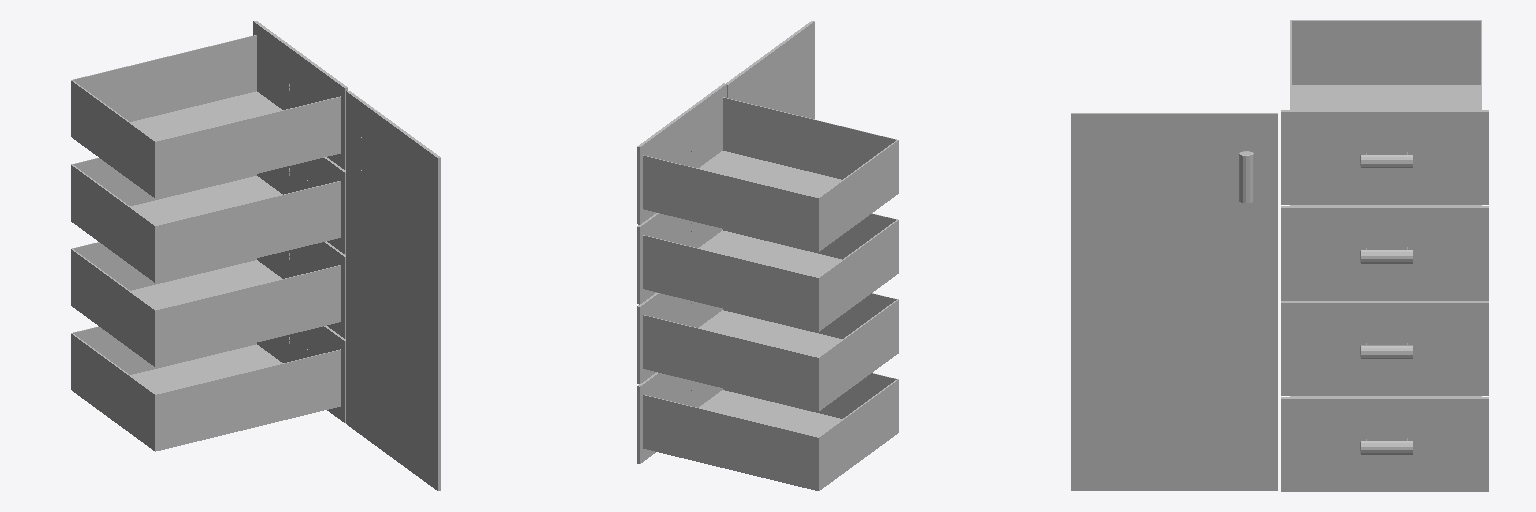
URDF robot description (my_urdf):
<?xml version='1.0' encoding='utf-8'?>
<robot name="my_urdf"><link name="base_link"><visual><origin xyz="0 0 0" rpy="0.0 0.0 0.0" /><material name="white"><color rgba="0.8 0.8 0.8 1" /></material><geometry><mesh filename="../meshes/cabinet.obj" scale="1 1 1" /></geometry></visual><collision><origin xyz="0 0 0" rpy="0.0 0.0 0.0" /><geometry><mesh filename="../meshes/cabinet.obj" scale="1 1 1" /></geometry></collision><inertial><mass value="1" /><inertia ixx="1e-4" ixy="0" ixz="0" iyy="1e-4" iyz="0" izz="1e-4" /></inertial></link><link name="drawer0"><visual><origin xyz="0 0 0" rpy="0 0 0" /><material name="white"><color rgba="0.8 0.8 0.8 1" /></material><geometry><mesh filename="../meshes/parts/drawer.obj" scale="1 1.98 0.98" /></geometry></visual><collision><origin xyz="0 0 0" rpy="0 0 0" /><geometry><mesh filename="../meshes/parts/drawer.obj" scale="1 1.98 0.98" /></geometry></collision><inertial><mass value="0.2" /><inertia ixx="1e-4" ixy="0" ixz="0" iyy="1e-4" iyz="0" izz="1e-4" /></inertial></link><joint name="drawer0_to_base_link" type="prismatic"><axis xyz="1 0 0" /><limit effort="5" lower="0" upper="0.4" velocity="2.283" /><origin xyz="0 0.5 0.75" rpy="0.0 0.0 0.0" /><parent link="base_link" /><child link="drawer0" /></joint><link name="drawer1"><visual><origin xyz="0 0 0" rpy="0 0 0" /><material name="white"><color rgba="0.8 0.8 0.8 1" /></material><geometry><mesh filename="../meshes/parts/drawer.obj" scale="1 1.98 0.98" /></geometry></visual><collision><origin xyz="0 0 0" rpy="0 0 0" /><geometry><mesh filename="../meshes/parts/drawer.obj" scale="1 1.98 0.98" /></geometry></collision><inertial><mass value="0.2" /><inertia ixx="1e-4" ixy="0" ixz="0" iyy="1e-4" iyz="0" izz="1e-4" /></inertial></link><joint name="drawer1_to_base_link" type="prismatic"><axis xyz="1 0 0" /><limit effort="5" lower="0" upper="0.4" velocity="2.283" /><origin xyz="0 0.5 0.5" rpy="0.0 0.0 0.0" /><parent link="base_link" /><child link="drawer1" /></joint><link name="drawer2"><visual><origin xyz="0 0 0" rpy="0 0 0" /><material name="white"><color rgba="0.8 0.8 0.8 1" /></material><geometry><mesh filename="../meshes/parts/drawer.obj" scale="1 1.98 0.98" /></geometry></visual><collision><origin xyz="0 0 0" rpy="0 0 0" /><geometry><mesh filename="../meshes/parts/drawer.obj" scale="1 1.98 0.98" /></geometry></collision><inertial><mass value="0.2" /><inertia ixx="1e-4" ixy="0" ixz="0" iyy="1e-4" iyz="0" izz="1e-4" /></inertial></link><joint name="drawer2_to_base_link" type="prismatic"><axis xyz="1 0 0" /><limit effort="5" lower="0" upper="0.4" velocity="2.283" /><origin xyz="0 0.5 0.25" rpy="0.0 0.0 0.0" /><parent link="base_link" /><child link="drawer2" /></joint><link name="drawer3"><visual><origin xyz="0 0 0" rpy="0 0 0" /><material name="white"><color rgba="0.8 0.8 0.8 1" /></material><geometry><mesh filename="../meshes/parts/drawer.obj" scale="1 1.98 0.98" /></geometry></visual><collision><origin xyz="0 0 0" rpy="0 0 0" /><geometry><mesh filename="../meshes/parts/drawer.obj" scale="1 1.98 0.98" /></geometry></collision><inertial><mass value="0.2" /><inertia ixx="1e-4" ixy="0" ixz="0" iyy="1e-4" iyz="0" izz="1e-4" /></inertial></link><joint name="drawer3_to_base_link" type="prismatic"><axis xyz="1 0 0" /><limit effort="5" lower="0" upper="0.4" velocity="2.283" /><origin xyz="0 0.5 0.0" rpy="0.0 0.0 0.0" /><parent link="base_link" /><child link="drawer3" /></joint><link name="doorL4"><visual><origin xyz="0 0 0" rpy="0 0 0" /><material name="white"><color rgba="0.8 0.8 0.8 1" /></material><geometry><mesh filename="../meshes/parts/doorL.obj" scale="1 1.99 3.99" /></geometry></visual><collision><origin xyz="0 0 0" rpy="0 0 0" /><geometry><mesh filename="../meshes/parts/doorL.obj" scale="1 1.99 3.99" /></geometry></collision><inertial><mass value="0.2" /><inertia ixx="1e-4" ixy="0" ixz="0" iyy="1e-4" iyz="0" izz="1e-4" /></inertial></link><joint name="doorL4_to_base_link" type="revolute"><axis xyz="0 0 1" /><limit effort="5" lower="-1.57" upper="0" velocity="2.283" /><origin xyz="0 0.0 0.0" rpy="0.0 0.0 0.0" /><parent link="base_link" /><child link="doorL4" /></joint><link name="handle5"><visual><origin xyz="0 0 0" rpy="0 0 0" /><material name="white"><color rgba="0.8 0.8 0.8 1" /></material><geometry><mesh filename="../meshes/parts/handle.obj" scale="1 1 1" /></geometry></visual><collision><origin xyz="0 0 0" rpy="0 0 0" /><geometry><mesh filename="../meshes/parts/handle.obj" scale="1 1 1" /></geometry></collision><inertial><mass value="0.2" /><inertia ixx="1e-4" ixy="0" ixz="0" iyy="1e-4" iyz="0" izz="1e-4" /></inertial></link><joint name="handle5_to_drawer0" type="fixed"><axis xyz="0 0 1" /><limit effort="5" lower="-1.57" upper="0" velocity="2.283" /><origin xyz="0 0.25 0.125" rpy="1.5707963267948963 0.0 0.0" /><parent link="drawer0" /><child link="handle5" /></joint><link name="handle6"><visual><origin xyz="0 0 0" rpy="0 0 0" /><material name="white"><color rgba="0.8 0.8 0.8 1" /></material><geometry><mesh filename="../meshes/parts/handle.obj" scale="1 1 1" /></geometry></visual><collision><origin xyz="0 0 0" rpy="0 0 0" /><geometry><mesh filename="../meshes/parts/handle.obj" scale="1 1 1" /></geometry></collision><inertial><mass value="0.2" /><inertia ixx="1e-4" ixy="0" ixz="0" iyy="1e-4" iyz="0" izz="1e-4" /></inertial></link><joint name="handle6_to_drawer1" type="fixed"><axis xyz="0 0 1" /><limit effort="5" lower="-1.57" upper="0" velocity="2.283" /><origin xyz="0 0.25 0.125" rpy="1.5707963267948963 0.0 0.0" /><parent link="drawer1" /><child link="handle6" /></joint><link name="handle7"><visual><origin xyz="0 0 0" rpy="0 0 0" /><material name="white"><color rgba="0.8 0.8 0.8 1" /></material><geometry><mesh filename="../meshes/parts/handle.obj" scale="1 1 1" /></geometry></visual><collision><origin xyz="0 0 0" rpy="0 0 0" /><geometry><mesh filename="../meshes/parts/handle.obj" scale="1 1 1" /></geometry></collision><inertial><mass value="0.2" /><inertia ixx="1e-4" ixy="0" ixz="0" iyy="1e-4" iyz="0" izz="1e-4" /></inertial></link><joint name="handle7_to_drawer2" type="fixed"><axis xyz="0 0 1" /><limit effort="5" lower="-1.57" upper="0" velocity="2.283" /><origin xyz="0 0.25 0.125" rpy="1.5707963267948963 0.0 0.0" /><parent link="drawer2" /><child link="handle7" /></joint><link name="handle8"><visual><origin xyz="0 0 0" rpy="0 0 0" /><material name="white"><color rgba="0.8 0.8 0.8 1" /></material><geometry><mesh filename="../meshes/parts/handle.obj" scale="1 1 1" /></geometry></visual><collision><origin xyz="0 0 0" rpy="0 0 0" /><geometry><mesh filename="../meshes/parts/handle.obj" scale="1 1 1" /></geometry></collision><inertial><mass value="0.2" /><inertia ixx="1e-4" ixy="0" ixz="0" iyy="1e-4" iyz="0" izz="1e-4" /></inertial></link><joint name="handle8_to_drawer3" type="fixed"><axis xyz="0 0 1" /><limit effort="5" lower="-1.57" upper="0" velocity="2.283" /><origin xyz="0 0.25 0.125" rpy="1.5707963267948963 0.0 0.0" /><parent link="drawer3" /><child link="handle8" /></joint><link name="handle9"><visual><origin xyz="0 0 0" rpy="0 0 0" /><material name="white"><color rgba="0.8 0.8 0.8 1" /></material><geometry><mesh filename="../meshes/parts/handle.obj" scale="1 1 1" /></geometry></visual><collision><origin xyz="0 0 0" rpy="0 0 0" /><geometry><mesh filename="../meshes/parts/handle.obj" scale="1 1 1" /></geometry></collision><inertial><mass value="0.2" /><inertia ixx="1e-4" ixy="0" ixz="0" iyy="1e-4" iyz="0" izz="1e-4" /></inertial></link><joint name="handle9_to_doorL4" type="fixed"><axis xyz="1 0 0" /><limit effort="5" lower="-1.57" upper="0" velocity="2.283" /><origin xyz="0 0.4166666666666667 0.8333333333333334" rpy="0.0 0.0 0.0" /><parent link="doorL4" /><child link="handle9" /></joint></robot>

--- Facts derived from the render (not from the file) ---
The picture shows the robot from 3 angles, left to right: view 1: azimuth 30°, elevation 25°; view 2: azimuth 150°, elevation 25°; view 3: azimuth 270°, elevation 25°; orthographic projection.
Robot: my_urdf — 11 links, 10 joints (1 revolute, 4 prismatic, 5 fixed); root link base_link; default pose: all joints at 0.
Visible links, largest first — view 1: drawer0, doorL4, drawer1, drawer2, drawer3; view 2: drawer0, drawer1, drawer3, drawer2, doorL4; view 3: doorL4, drawer0, drawer1, drawer3, drawer2, handle9, handle6, handle8, handle7, handle5.
Boxes of the visible links, left/top/right/bottom form: drawer0: left=71, top=21, right=347, bottom=198; doorL4: left=346, top=91, right=440, bottom=490; drawer1: left=71, top=157, right=345, bottom=282; drawer2: left=71, top=241, right=345, bottom=366; drawer3: left=71, top=326, right=345, bottom=451; drawer0: left=637, top=83, right=898, bottom=251; drawer1: left=637, top=213, right=898, bottom=331; drawer3: left=637, top=372, right=898, bottom=490; drawer2: left=637, top=293, right=898, bottom=411; doorL4: left=726, top=21, right=814, bottom=118; doorL4: left=1071, top=113, right=1277, bottom=490; drawer0: left=1281, top=20, right=1488, bottom=204; drawer1: left=1281, top=205, right=1488, bottom=300; drawer3: left=1281, top=396, right=1488, bottom=491; drawer2: left=1281, top=301, right=1488, bottom=395; handle9: left=1239, top=151, right=1253, bottom=202; handle6: left=1360, top=247, right=1412, bottom=263; handle8: left=1360, top=438, right=1412, bottom=454; handle7: left=1360, top=343, right=1412, bottom=358; handle5: left=1360, top=152, right=1412, bottom=167.
Size in the robot's own frame: 0.6223 by 0.993 by 0.993 metres.
Meshes: 4 distinct files referenced, 10 mesh visuals loaded (3 OBJ); not drawn: 1 (reference not matched to a file when rendering).